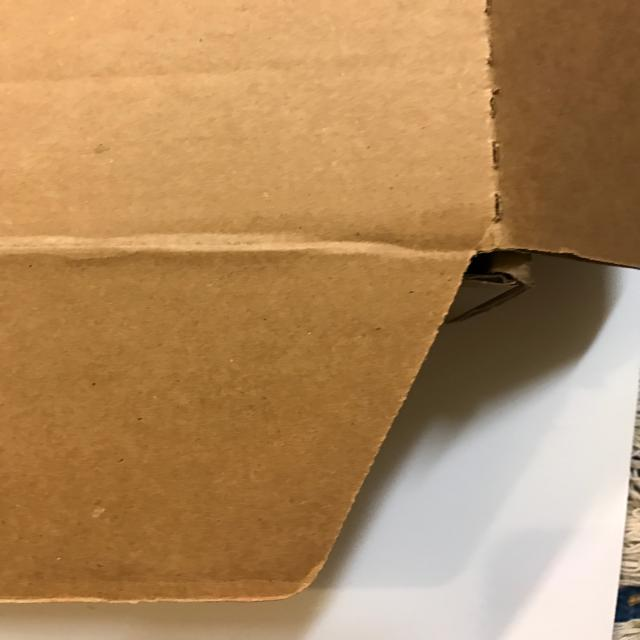cardboard: (1, 0, 638, 606)
